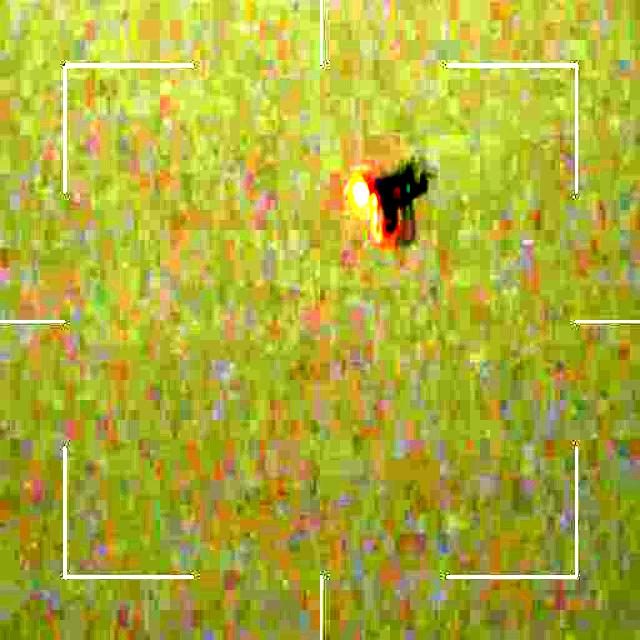bird: (342, 155, 439, 245)
